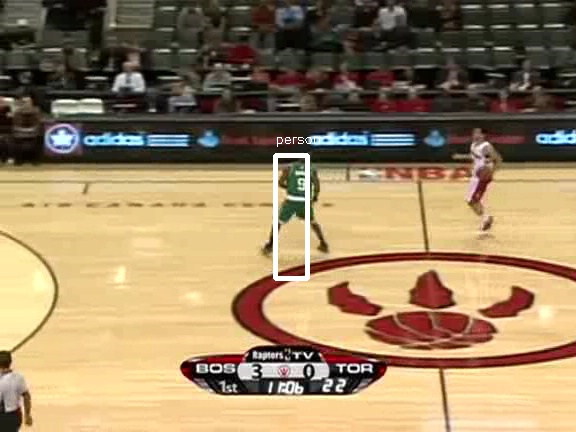person: (283, 154, 317, 235), (282, 154, 316, 235), (284, 154, 318, 235), (283, 153, 317, 234), (283, 155, 317, 236)
target_negative: (3, 45, 522, 357), (89, 60, 400, 354), (122, 231, 226, 411), (502, 89, 571, 209), (347, 383, 419, 424), (133, 367, 436, 371)
